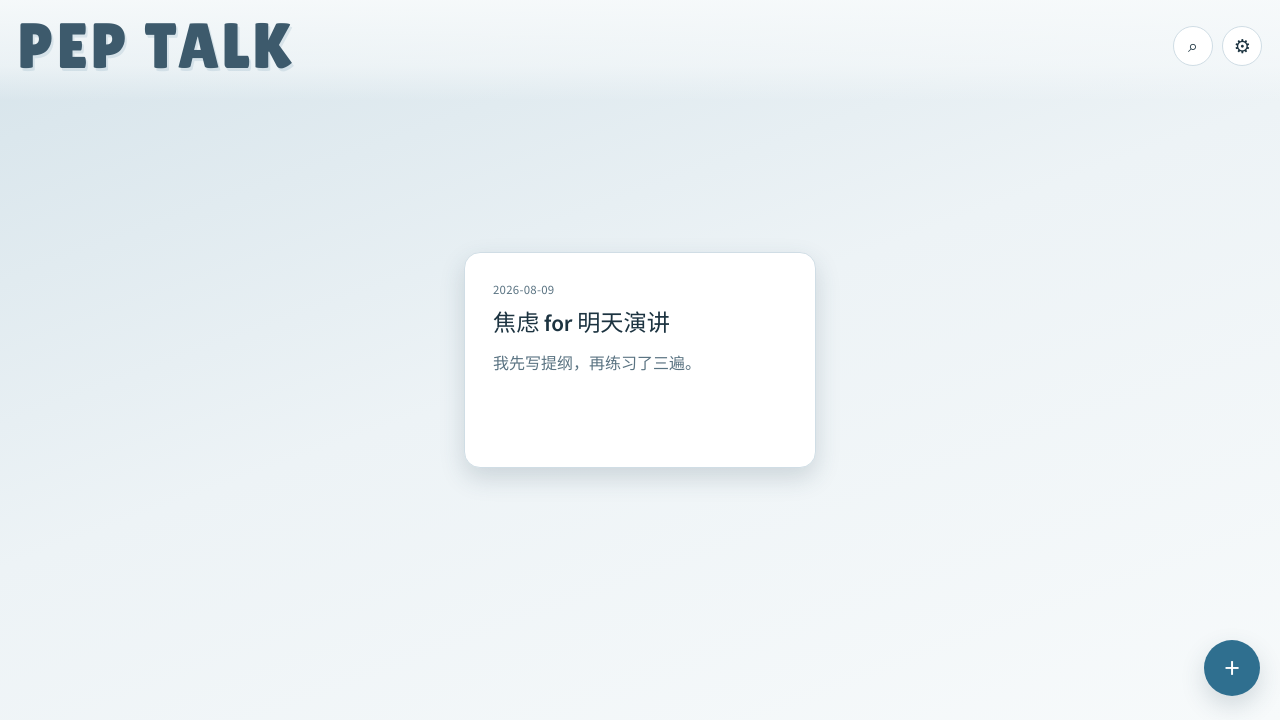
Scenario: HomePage › shows the no-results guide when a keyword matches nothing
Check: the heading "焦虑 for 明天演讲" is shown, box [493, 308, 670, 339]
Click the button named "展开搜索". click: click(1193, 46)
box: [1173, 26, 1213, 66]
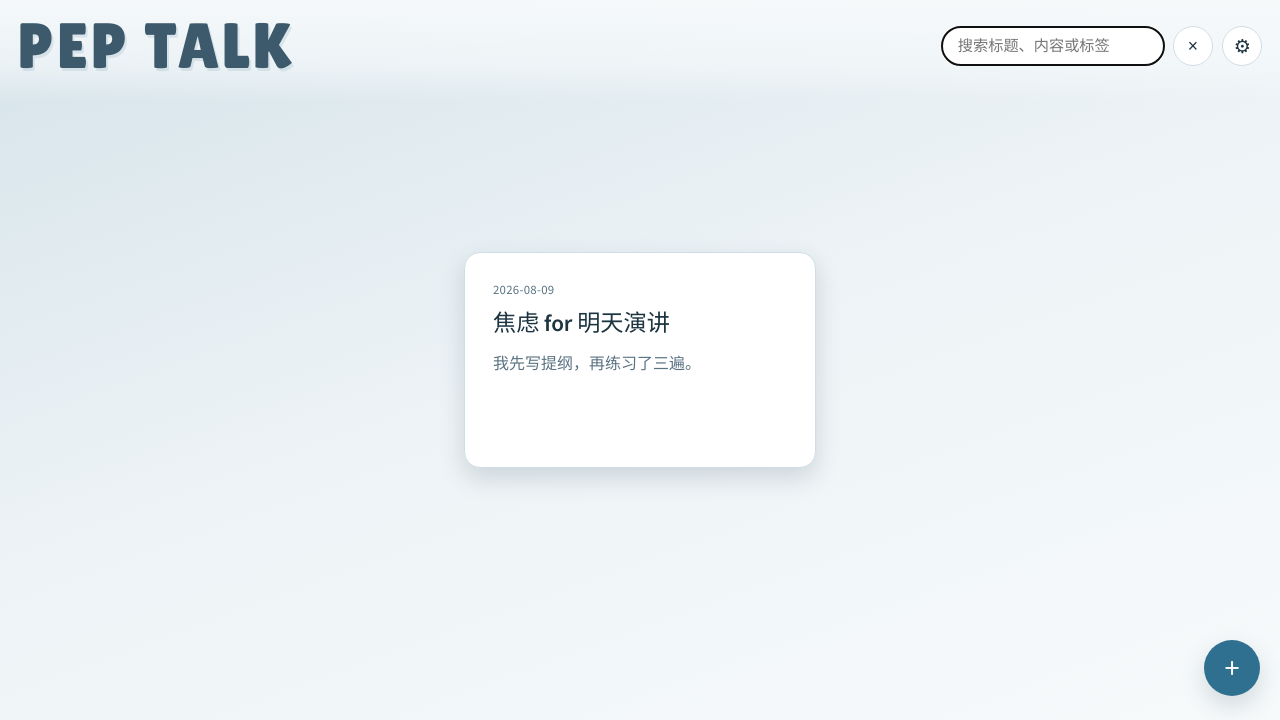
Type "不存在的关键词" into the field named "搜索案例". click: (1053, 46)
box: [941, 26, 1165, 66]
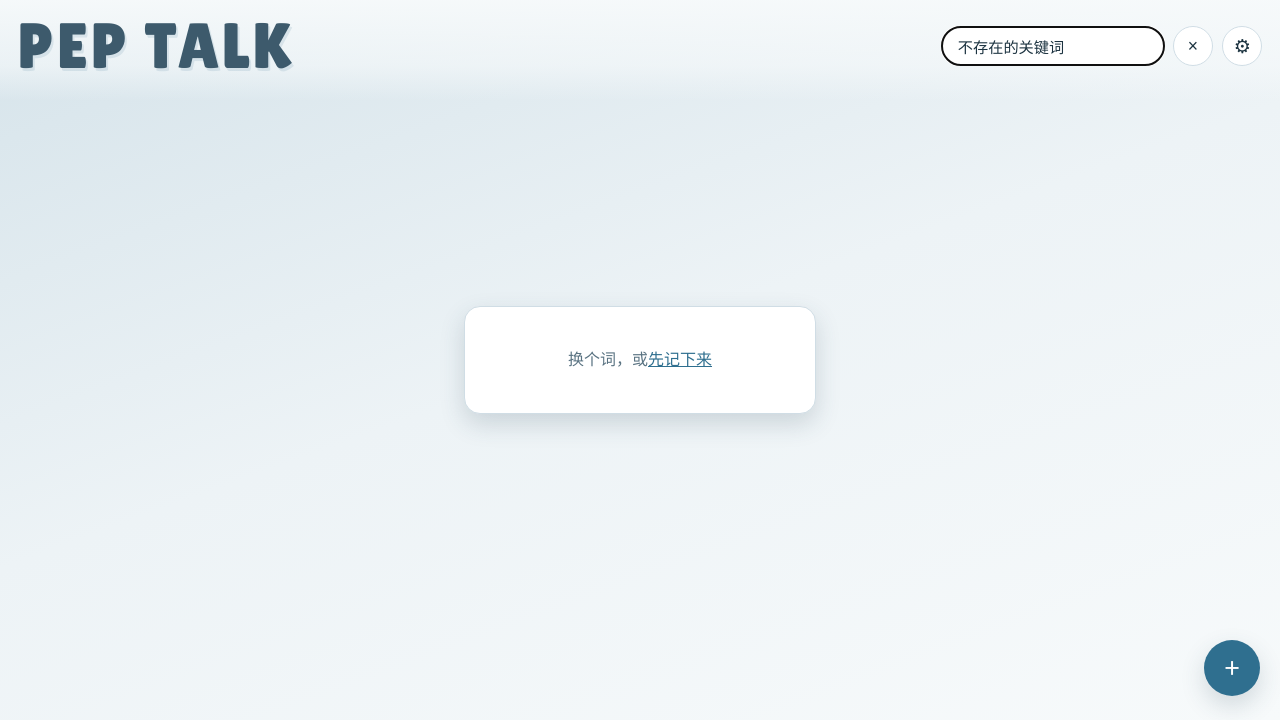
Check: the link "先记下来" is shown, box [648, 349, 712, 370]
Check: the button "焦虑 for 明天演讲" is gone
